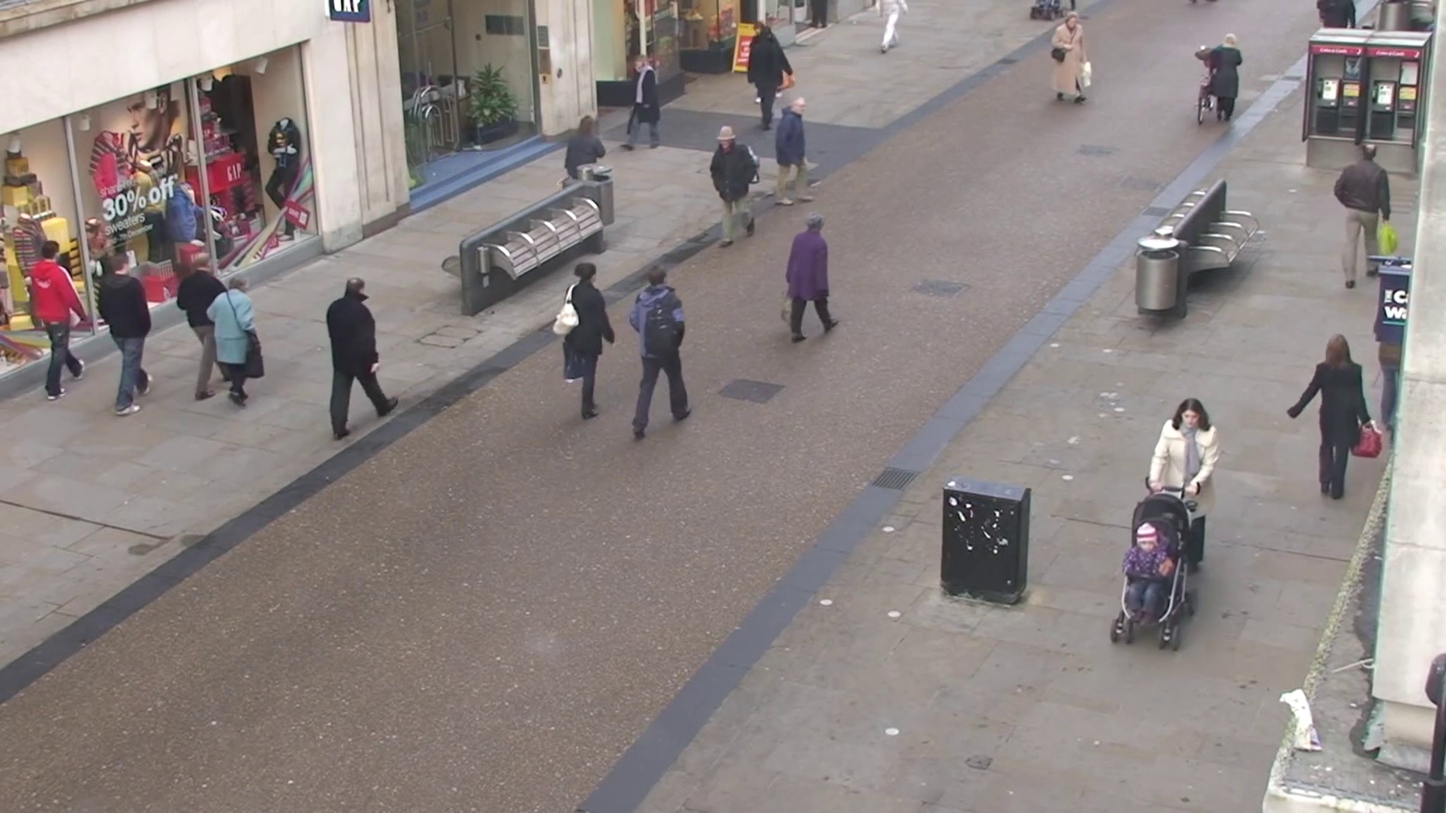person: (1286, 334, 1380, 502), (1144, 399, 1219, 572), (325, 278, 395, 439), (628, 265, 694, 434), (24, 239, 90, 402), (96, 242, 155, 415), (555, 260, 616, 420), (1332, 139, 1393, 291), (173, 246, 230, 403), (1170, 33, 1231, 165), (784, 214, 838, 343), (211, 274, 261, 408), (709, 125, 761, 243), (748, 20, 792, 125), (772, 91, 810, 199), (1048, 11, 1090, 105), (624, 54, 663, 150)
